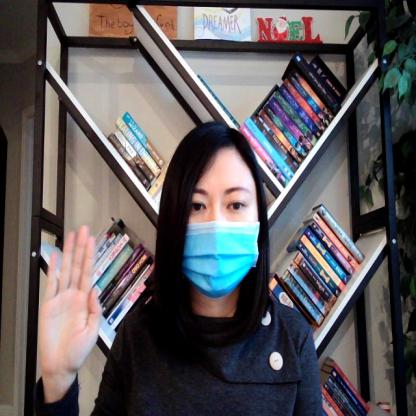hello: (36, 222, 104, 388)
